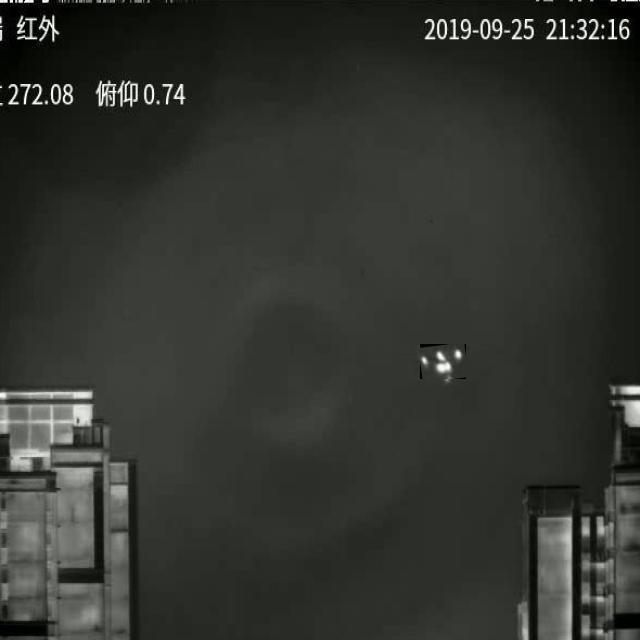drone: (420, 345, 466, 379)
